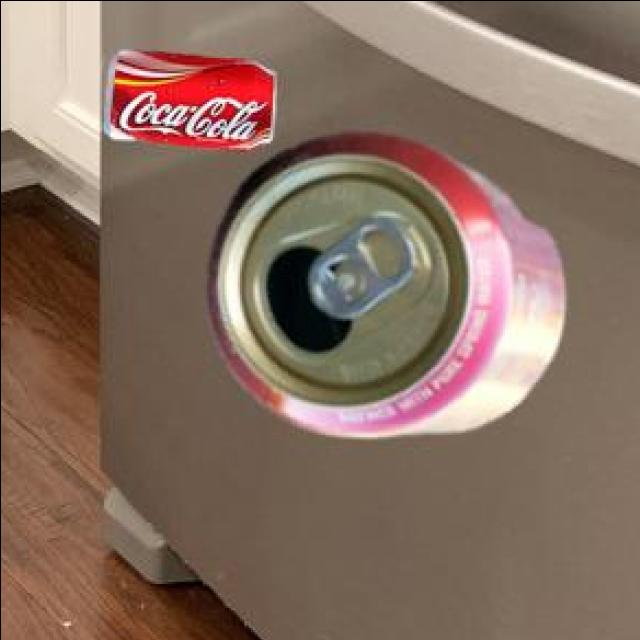logam: (203, 128, 560, 433), (100, 47, 270, 146)
